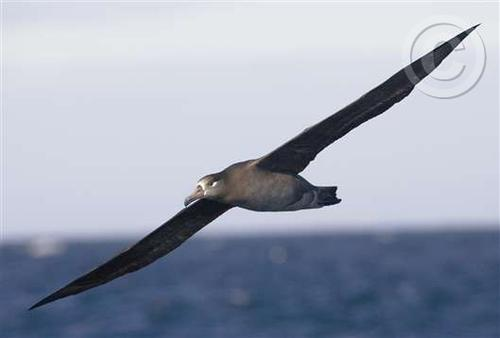001.Black_footed_Albatross: (25, 22, 488, 314)
